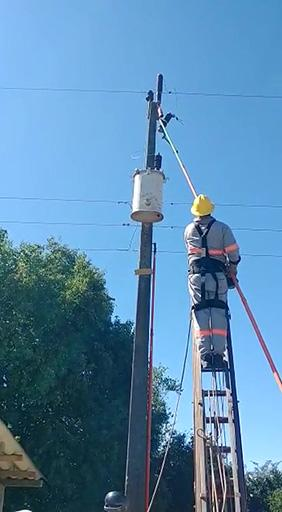Vara_Manobra: (159, 120, 282, 391)
